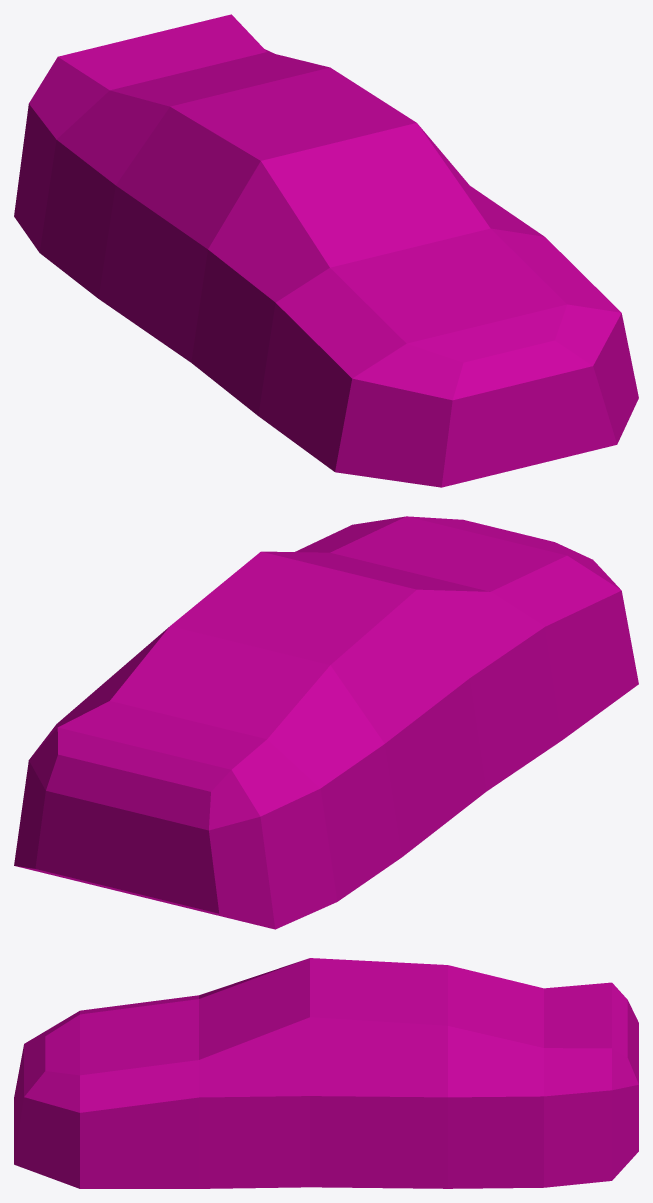
File: SM_Veh_Stock_Car_01_Preset_01_Collision.fbx
The picture shows the model from 3 angles, top to bottom: view 1: azimuth 30°, elevation 25°; view 2: azimuth 150°, elevation 25°; view 3: azimuth 270°, elevation 25°; orthographic projection. The views are drawn at different scales.
Parts seen in each view (by area): view 1: SM_Veh_Stock_Car_01_Preset_01_Collision; view 2: SM_Veh_Stock_Car_01_Preset_01_Collision; view 3: SM_Veh_Stock_Car_01_Preset_01_Collision.
Boxes of the visible parts, x1,y1,x2,y2 form: SM_Veh_Stock_Car_01_Preset_01_Collision: [14, 14, 638, 487]; SM_Veh_Stock_Car_01_Preset_01_Collision: [14, 516, 638, 929]; SM_Veh_Stock_Car_01_Preset_01_Collision: [14, 958, 638, 1188].
Bounding box in the file's own units: 237 × 138 × 544.
